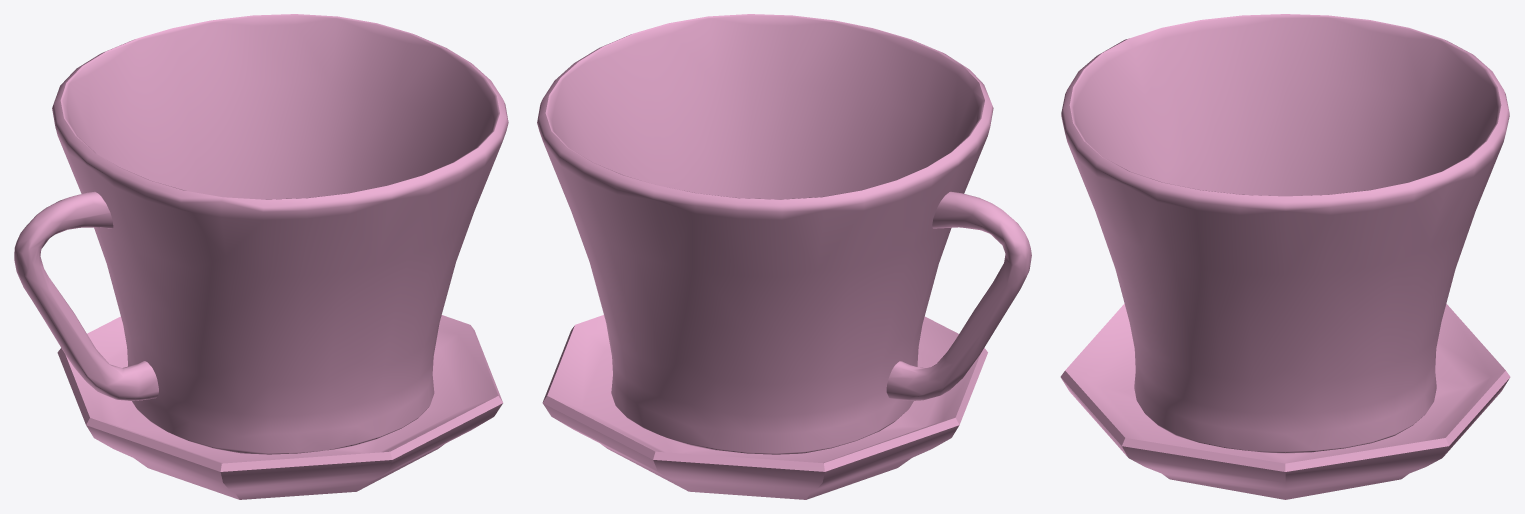
Rendered from tazzina_rosa_LOD1.fbx.
3 views of the same model, side by side, from view 1: azimuth 30°, elevation 25°; view 2: azimuth 150°, elevation 25°; view 3: azimuth 270°, elevation 25° (orthographic).
Parts seen in each view (by area): view 1: Cube_010; view 2: Cube_010; view 3: Cube_010.
Part boxes in pixels (x1,y1,x2,y2): Cube_010: (14, 14, 508, 499); Cube_010: (537, 14, 1031, 499); Cube_010: (1060, 14, 1510, 499).
Bounding box in the file's own units: 30.02 × 20.71 × 25.48.
